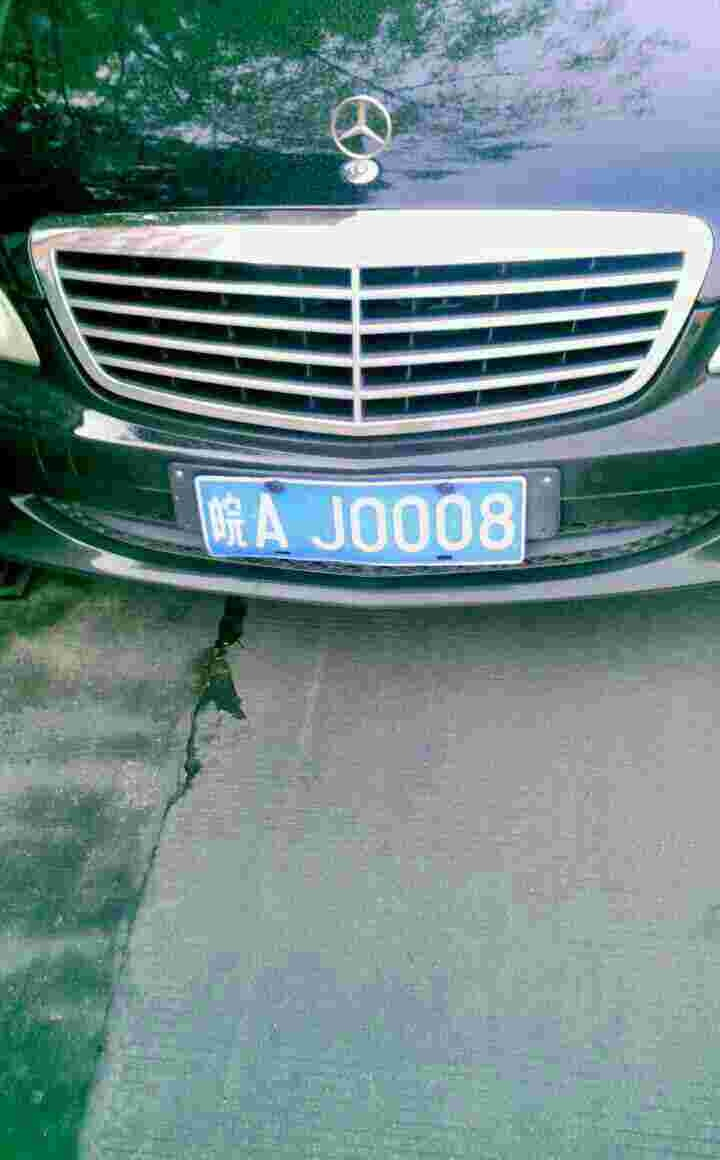license_plate: (194, 481, 538, 573)
